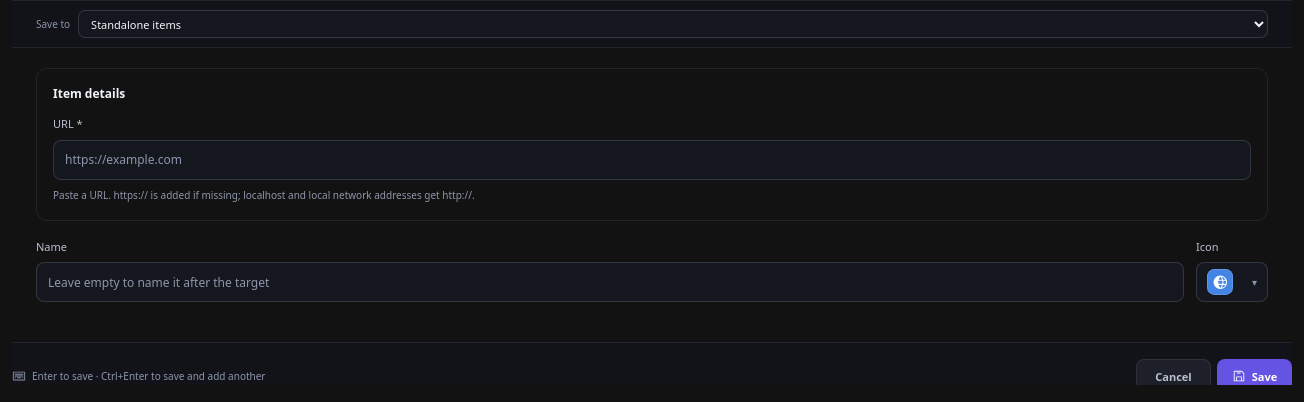
Test: the add form › naming an entry after its target › completes a typed address when the field is left
Type "localhost:3000" into the field with test id "item-url-input". click: [652, 160]
box: [53,140,1251,180]
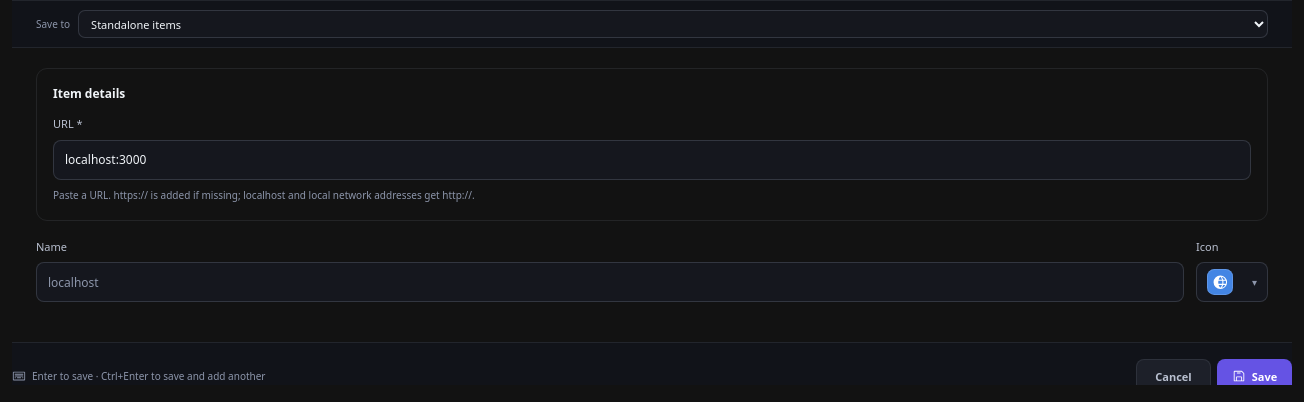
Leave the field with test id "item-url-input", box [53,140,1251,180]
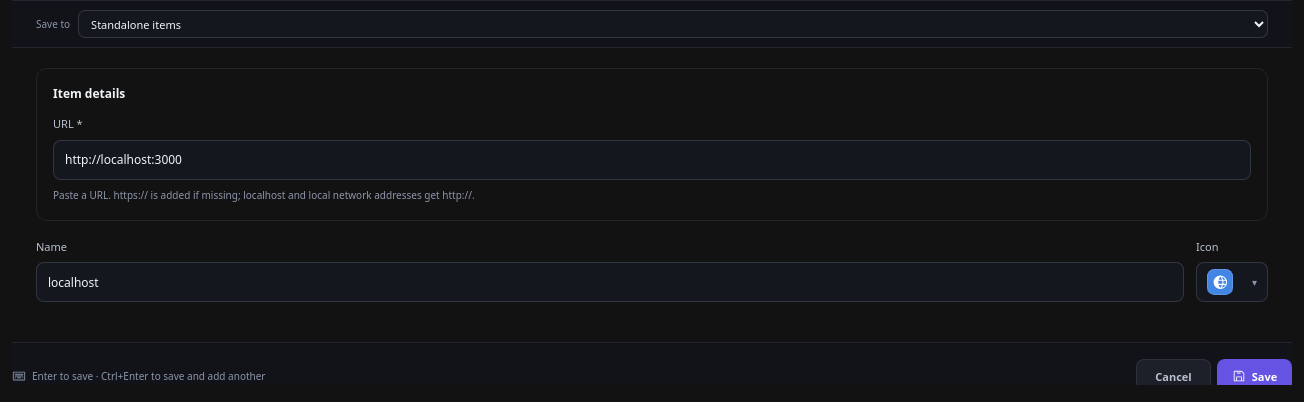
Check: the field with test id "item-url-input" holds "http://localhost:3000", box [53,140,1251,180]
Check: the field with test id "item-name-input" holds "localhost", box [36,262,1184,302]
